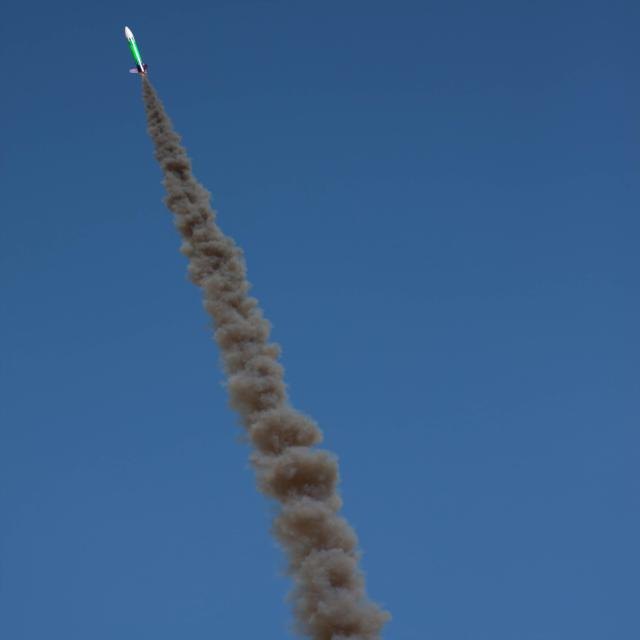Rocket: (124, 26, 150, 77)
